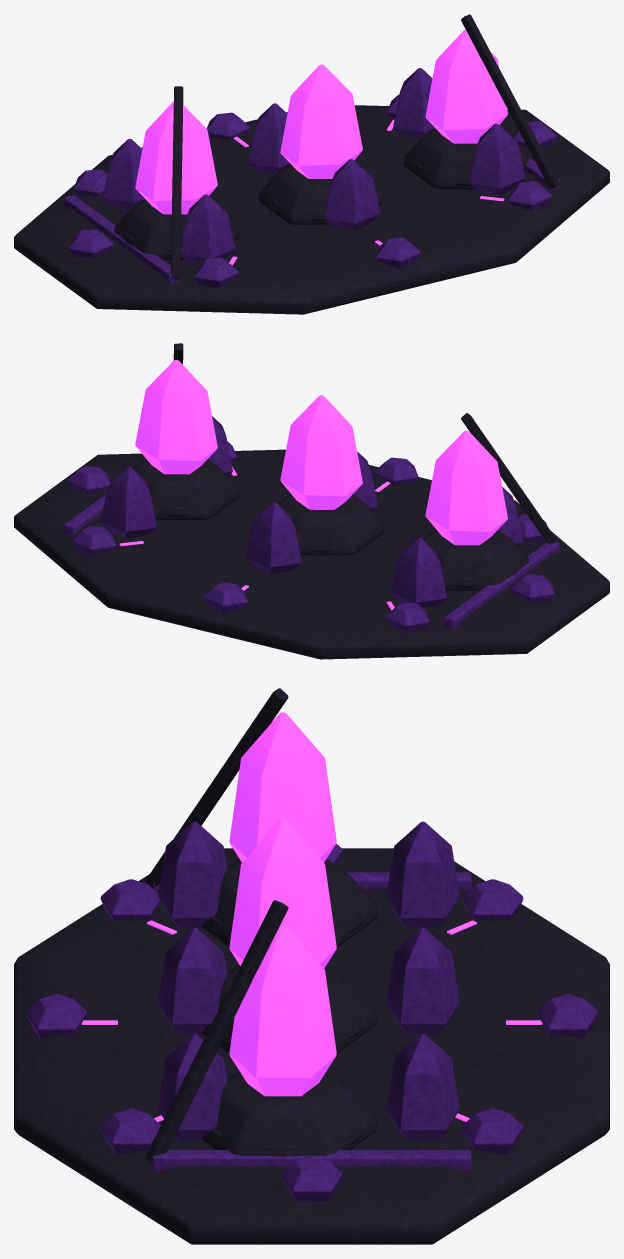
Rendered from conclave_serre_cristalline.gltf.
3 views of the same model, one above another, from view 1: azimuth 30°, elevation 25°; view 2: azimuth 150°, elevation 25°; view 3: azimuth 270°, elevation 25° (orthographic). The views are drawn at different scales.
Parts seen in each view (by area): view 1: Root.015_Geometry; view 2: Root.015_Geometry; view 3: Root.015_Geometry.
Part boxes in pixels (<box>): Root.015_Geometry: <box>14,14,609,314</box>; Root.015_Geometry: <box>14,343,609,659</box>; Root.015_Geometry: <box>14,688,609,1244</box>.
Size of the model in its own units: 5.88 by 1.9 by 3.92.
3 materials, 2 textured.
